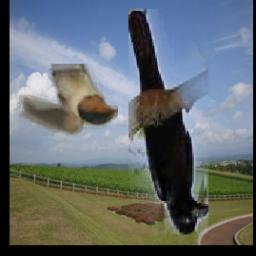Crow: (128, 9, 208, 234)
Swallow: (19, 65, 118, 136)
